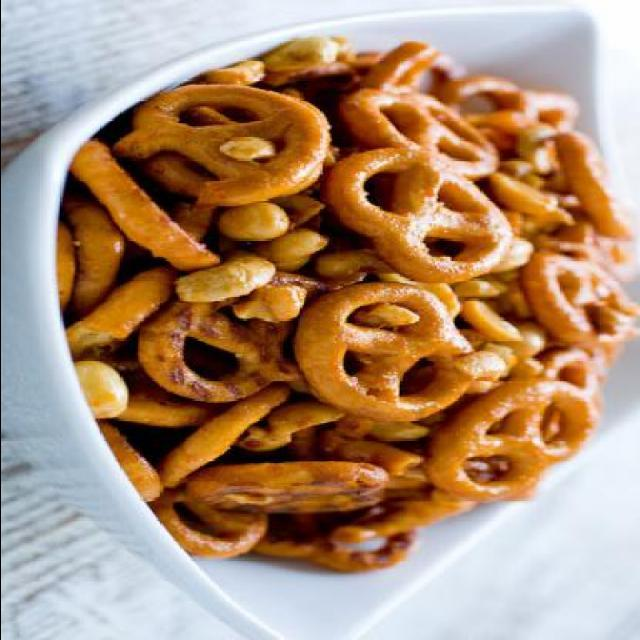Salatini packaged: (60, 39, 631, 576)
